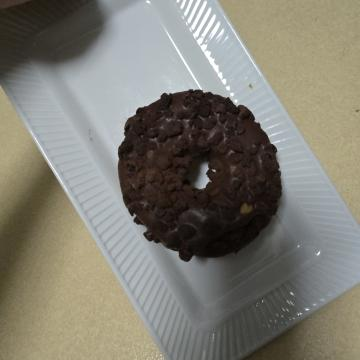doughnut: (76, 71, 269, 250)
